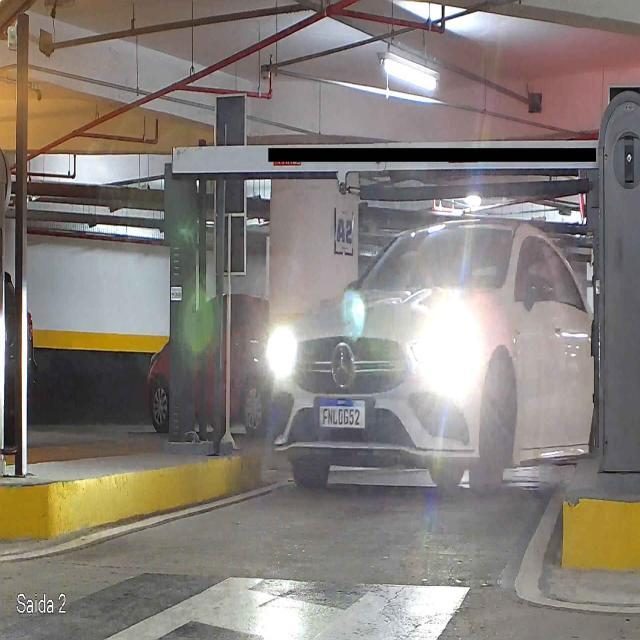mercosul_plate: (317, 399, 367, 430)
